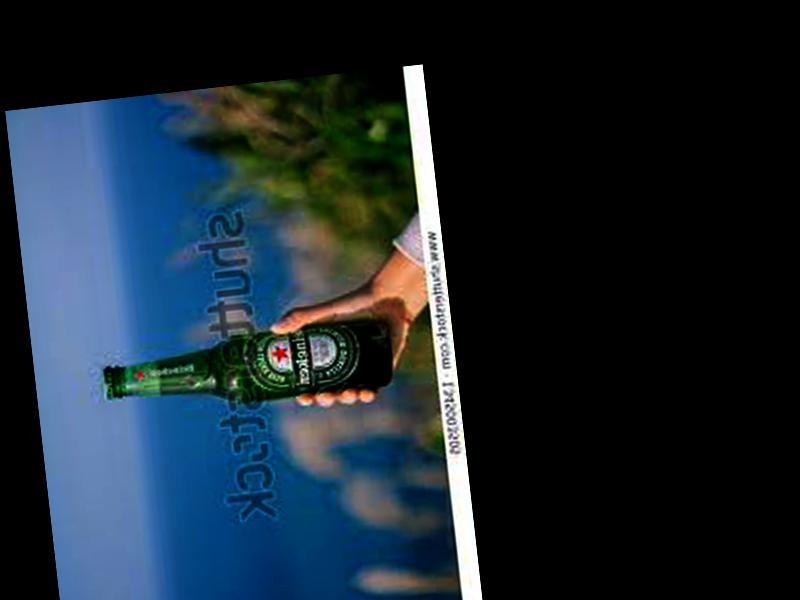Beer: (99, 315, 391, 417)
